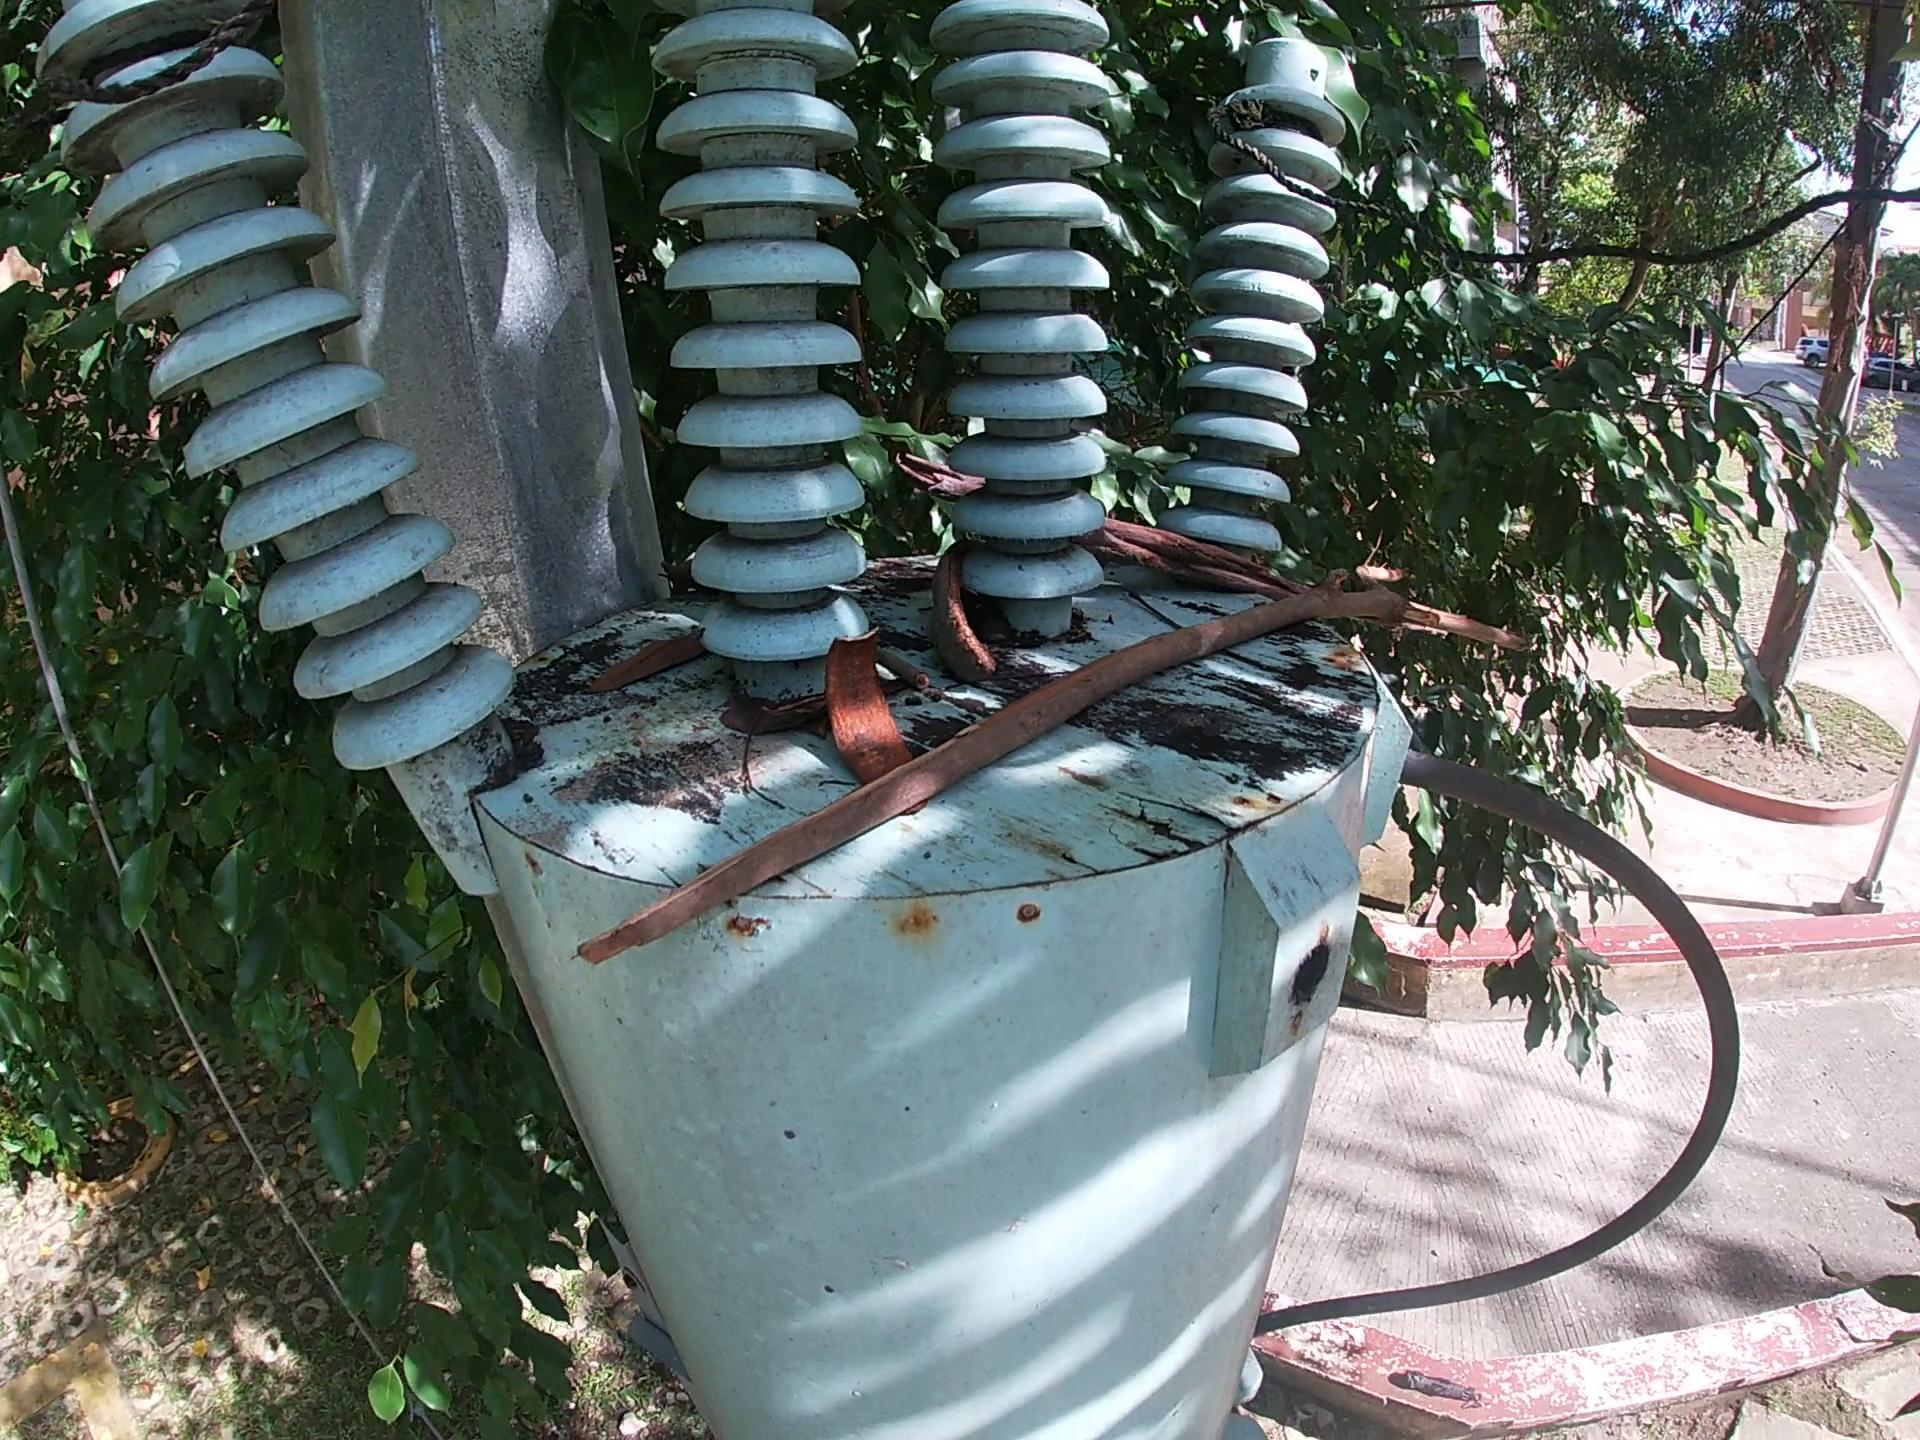leaf: (574, 632, 711, 709)
mahogany fruit: (819, 619, 912, 785), (915, 535, 1011, 687)
tree branch: (562, 552, 1554, 979), (889, 439, 1305, 602), (874, 647, 931, 694)
